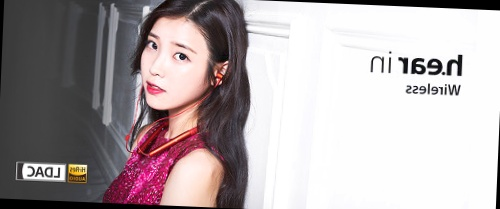earphone: (209, 60, 232, 87)
